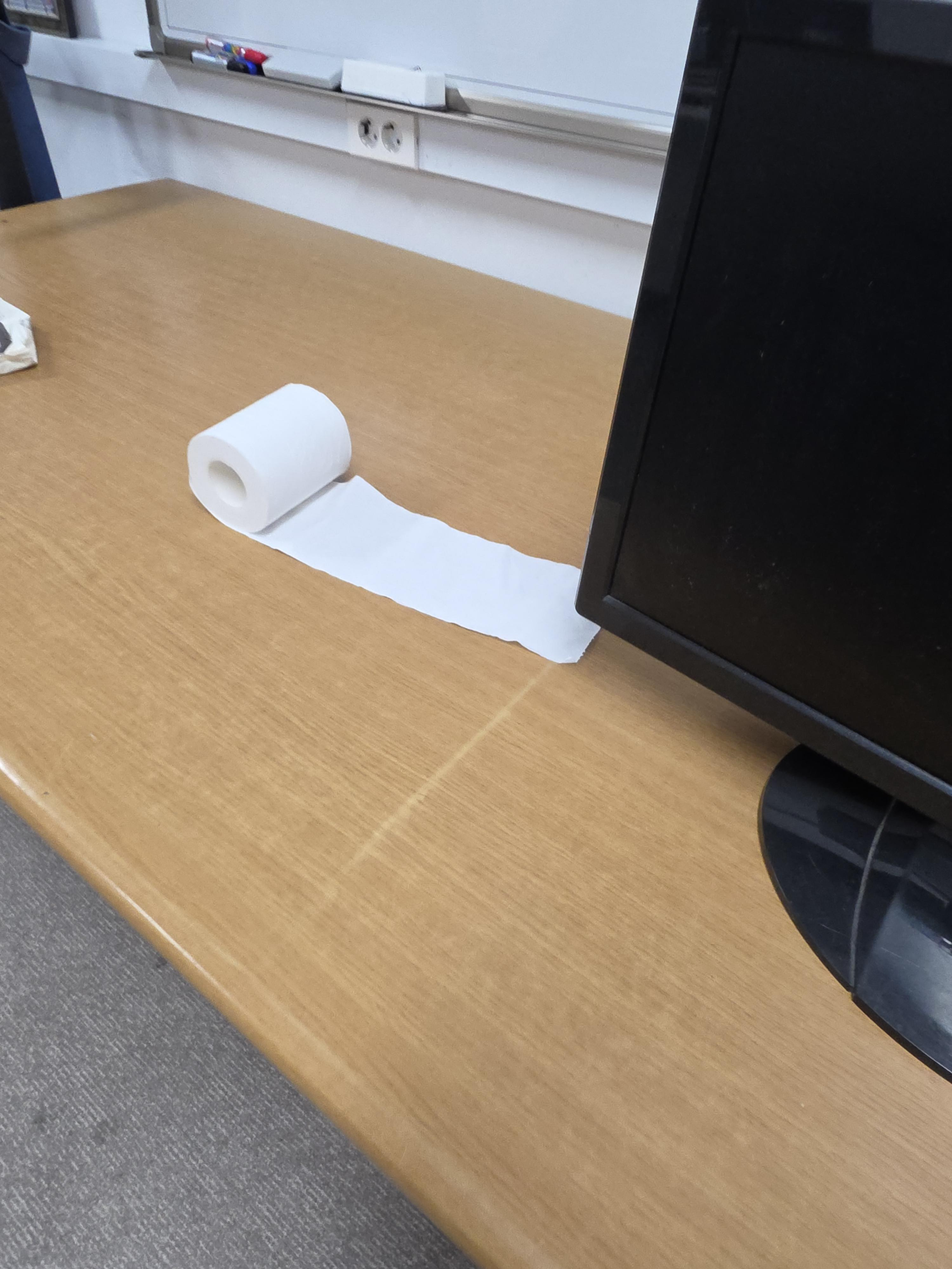tissue: (187, 384, 600, 664)
